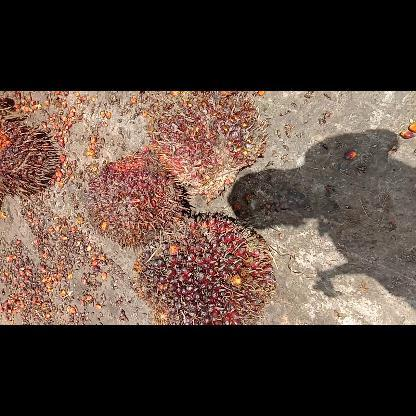Kurang masak: (150, 92, 268, 202)
TBS masak: (133, 212, 275, 324), (87, 148, 191, 247)
